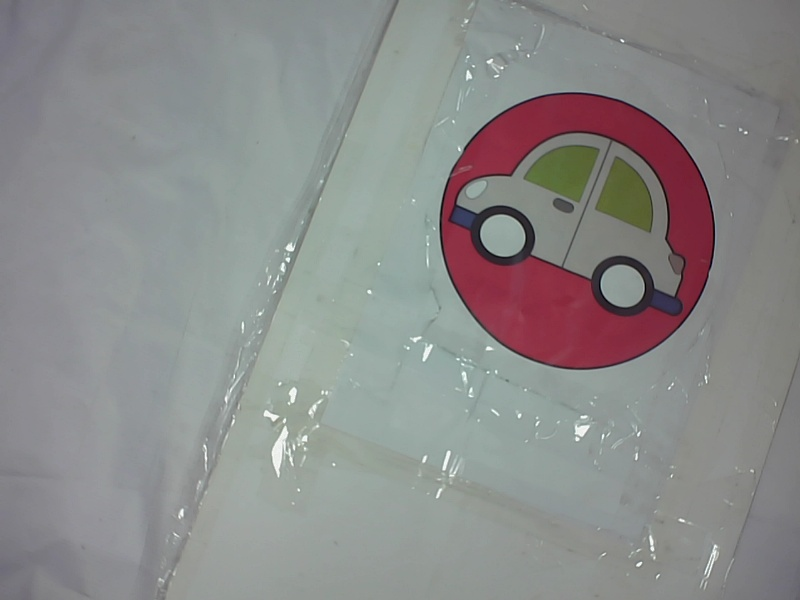areaC: (437, 81, 729, 380)
